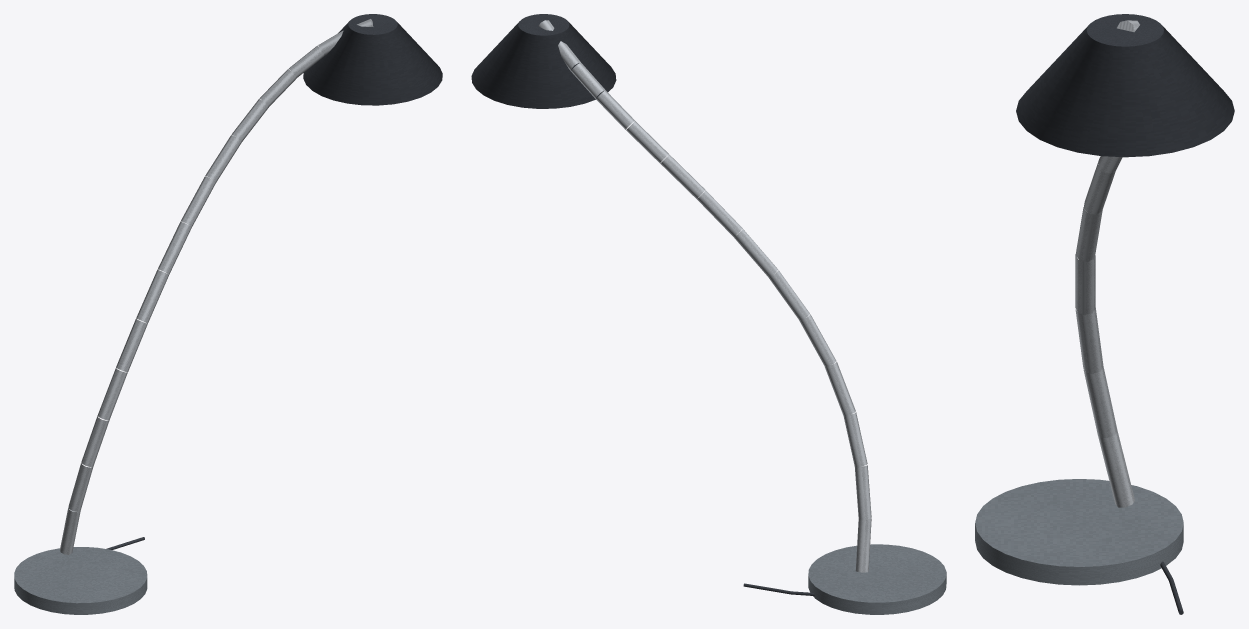
Rendered from floor_lamp_arc01.glb.
3 views of the same model, side by side, from view 1: azimuth 30°, elevation 25°; view 2: azimuth 150°, elevation 25°; view 3: azimuth 270°, elevation 25° (orthographic). The views are drawn at different scales.
Parts seen in each view (by area): view 1: shade, curved_stem, base; view 2: shade, curved_stem, base; view 3: shade, base, curved_stem.
Boxes of the visible parts, x1,y1,x2,y2 form: shade: [303, 14, 442, 105]; curved_stem: [60, 19, 373, 554]; base: [14, 547, 147, 614]; shade: [471, 14, 616, 108]; curved_stem: [538, 20, 871, 572]; base: [808, 544, 946, 614]; shade: [1016, 14, 1234, 157]; base: [975, 479, 1183, 585]; curved_stem: [1075, 20, 1139, 507].
Size of the model in its own units: 1.51 by 1.63 by 0.5103.
Materials: 4 (3 with a texture image).
